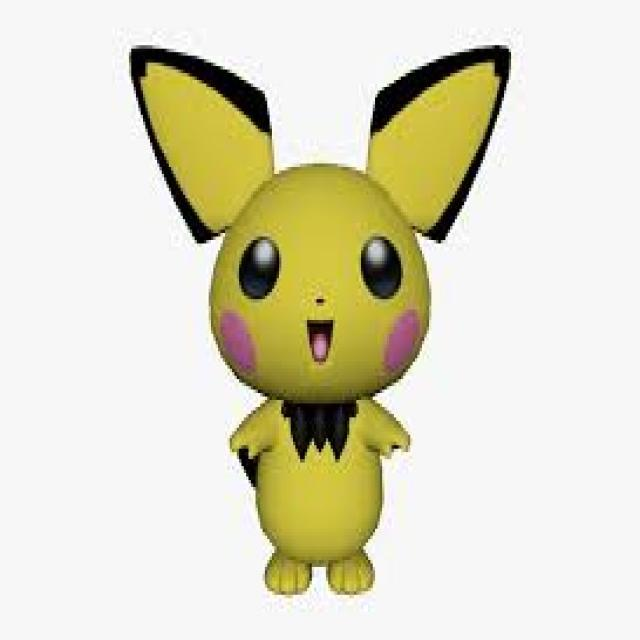pichu: (132, 19, 512, 583)
